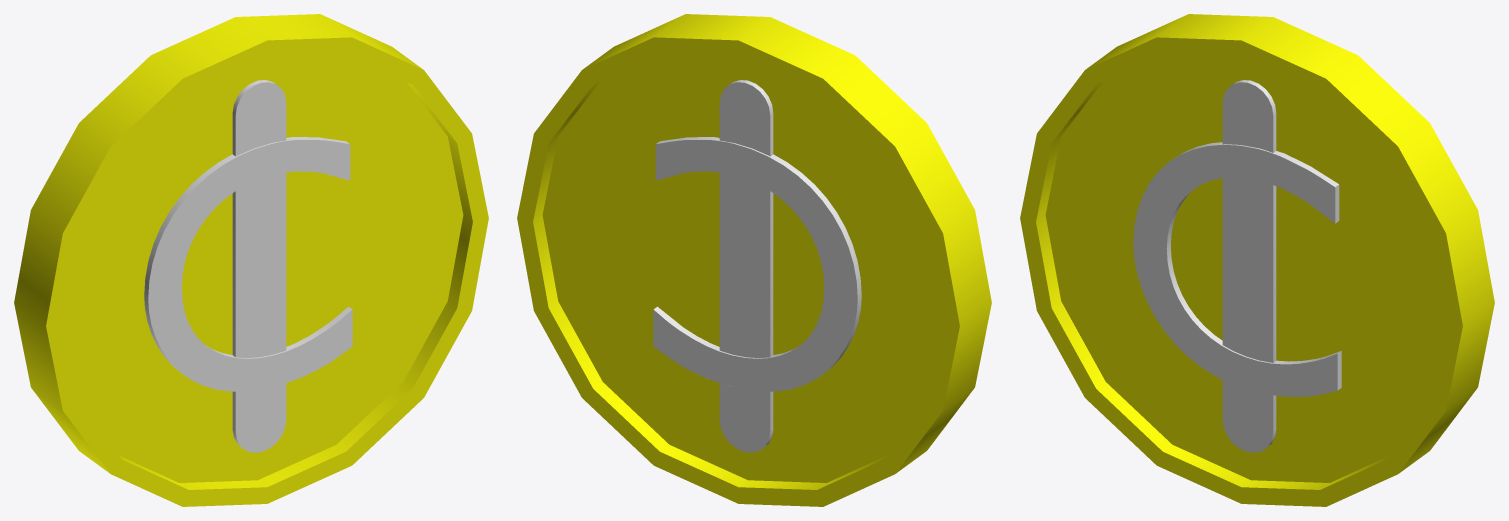
The model's file is Coin.glb.
3 views of the same model, side by side, from view 1: azimuth 30°, elevation 25°; view 2: azimuth 150°, elevation 25°; view 3: azimuth 330°, elevation 25° (orthographic).
Visible parts, largest first — view 1: Coin; view 2: Coin; view 3: Coin.
Part boxes in pixels (<box>): Coin: <box>14,14,488,506</box>; Coin: <box>517,14,991,506</box>; Coin: <box>1020,14,1494,506</box>.
Bounding box in the file's own units: 1 × 1 × 0.125.
